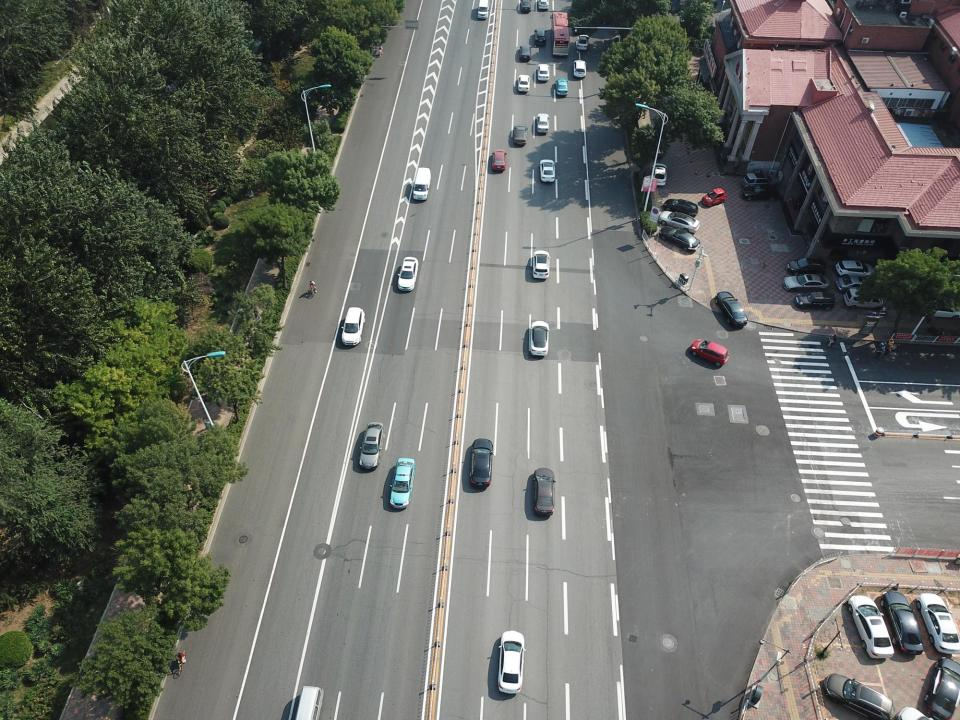bus: (550, 12, 570, 56)
car: (823, 672, 894, 720), (847, 594, 894, 659), (879, 590, 924, 655), (916, 592, 960, 654), (922, 656, 960, 720), (497, 630, 526, 694), (388, 457, 416, 510), (357, 421, 385, 470), (469, 438, 494, 488), (531, 467, 556, 516), (715, 291, 748, 325), (658, 226, 701, 252), (690, 339, 731, 366), (339, 306, 365, 346), (658, 210, 700, 234), (782, 273, 830, 293), (396, 256, 419, 293), (794, 290, 836, 310), (920, 298, 960, 319), (528, 320, 550, 358), (786, 256, 827, 276), (835, 259, 875, 279), (836, 275, 879, 293), (664, 198, 698, 219), (740, 184, 777, 202), (531, 250, 551, 280), (742, 172, 778, 188), (701, 188, 726, 208), (538, 158, 556, 183), (490, 148, 508, 173), (652, 163, 668, 186), (513, 124, 529, 146), (536, 113, 550, 133), (517, 74, 531, 93), (555, 78, 569, 96), (572, 60, 586, 78), (576, 33, 590, 51), (534, 28, 547, 47), (537, 63, 550, 81), (519, 44, 532, 62), (518, 0, 531, 12), (538, 0, 549, 10)
van: (294, 684, 325, 720), (843, 287, 884, 310), (412, 167, 432, 202), (477, 0, 490, 19)
